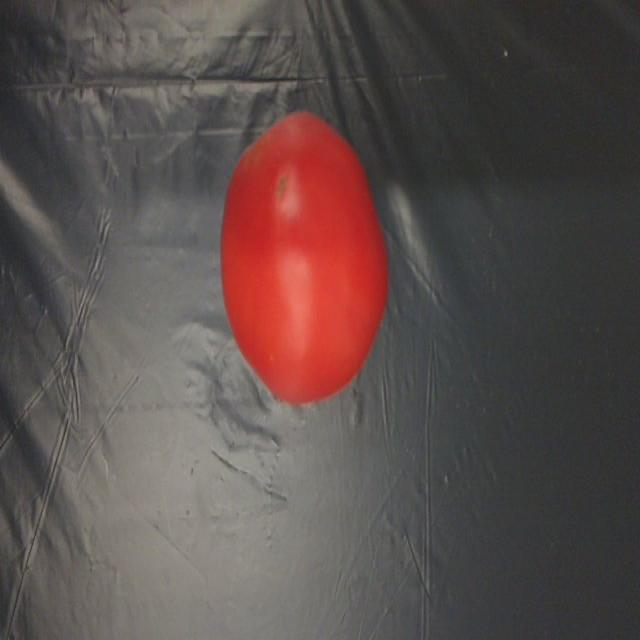kirmizi: (204, 107, 396, 406)
